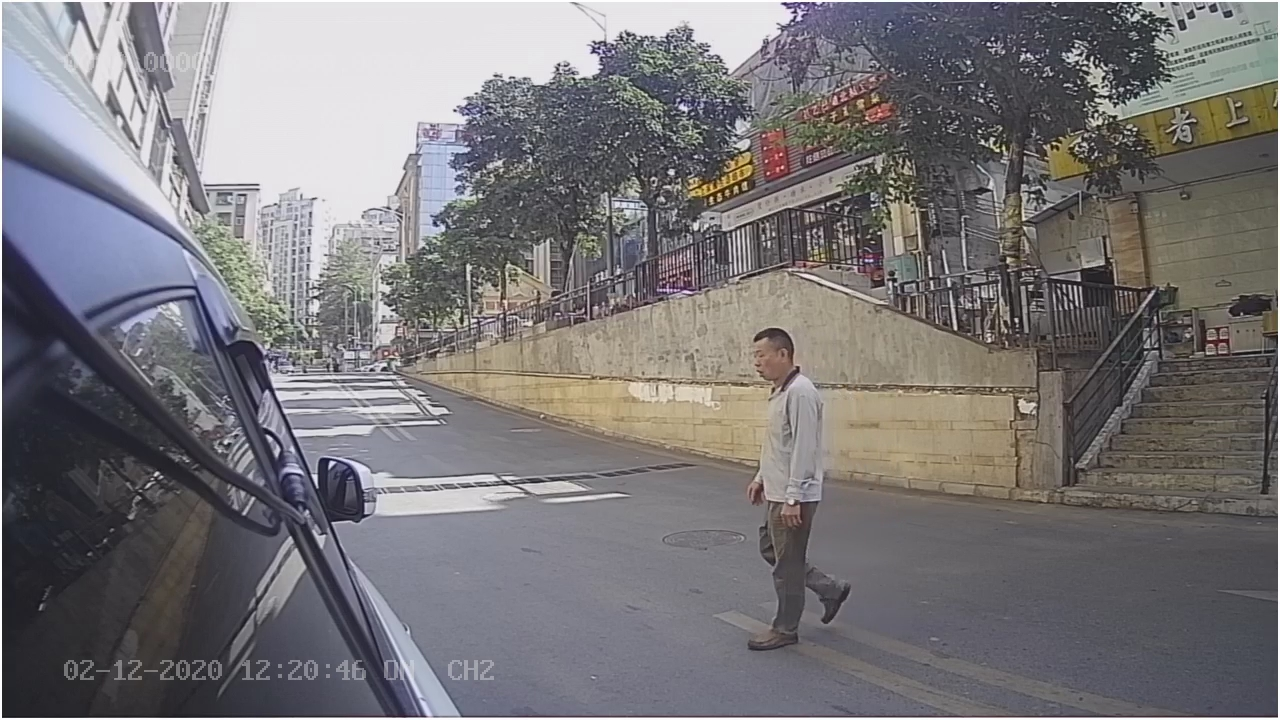person: (731, 319, 852, 653)
